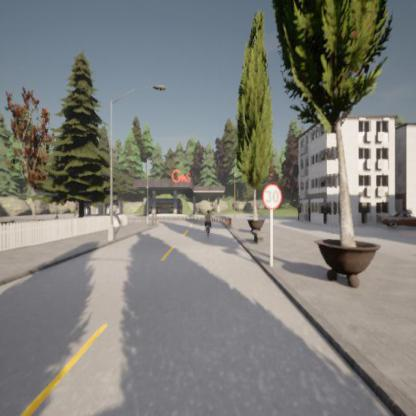motobike: (204, 210, 212, 236)
traffic_sign_30: (263, 184, 282, 209)
